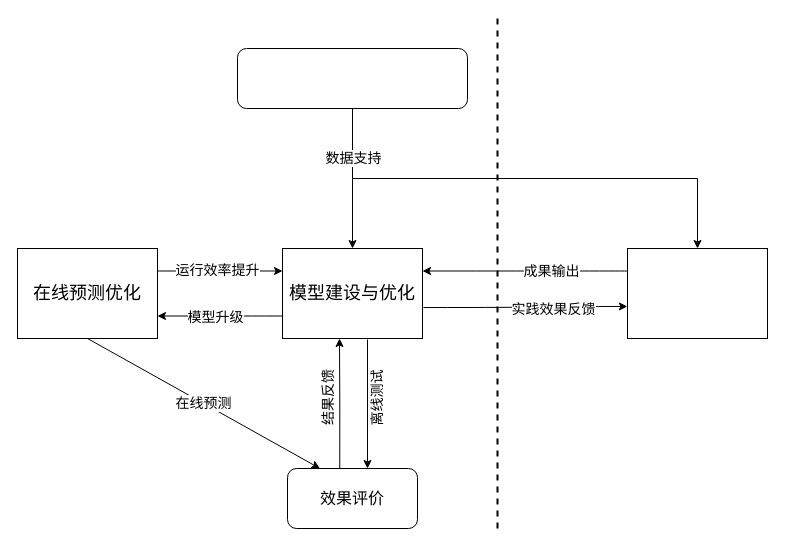
This 785x547 diagram has some shape labels left out. The box of each missing label's shape, as (x1, y1, x2, y2) in pixels:
探索性研究: (626, 248, 768, 338)
监测点位选取与数据整理: (236, 48, 468, 108)
